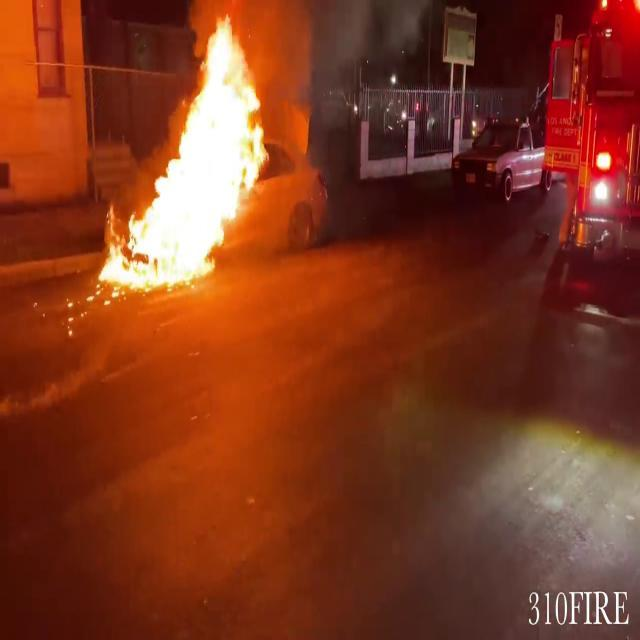Fire: (96, 4, 279, 296)
